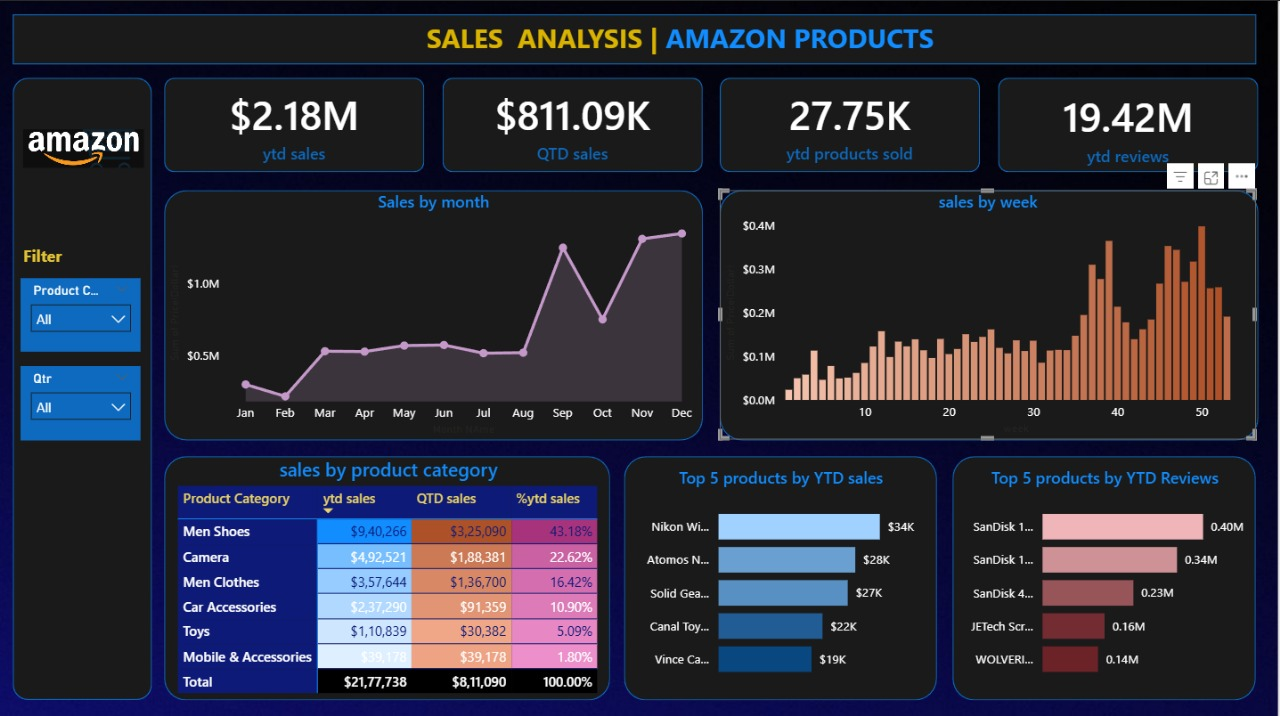

The dashboard page shown, as its layout file describes it:
{"tool":"powerbi","page":{"name":"Page 1","canvas":[1280,720],"ordinal":0},"visuals":[{"type":"shape","box":[14.5,13.4,1243.4,50.1],"z":0},{"type":"textbox","box":[83.4,13.5,1196.3,50.3],"z":1000},{"type":"shape","box":[14.5,76.8,139.1,622.3],"z":2000},{"type":"shape","box":[165.6,77.3,260.1,94.5],"z":3000},{"type":"card","fields":{"Values":["Amazon_Data.ytd sales"]},"box":[165.6,77.3,260.1,94.5],"z":4000},{"type":"shape","box":[443.8,77.3,260.1,94.5],"z":5000},{"type":"card","fields":{"Values":["Amazon_Data.QTD sales"]},"box":[444.2,77.3,260.1,94.5],"z":6000},{"type":"shape","box":[721.9,77.3,260.1,94.5],"z":7000},{"type":"shape","box":[1000,77.3,260.1,94.5],"z":8000},{"type":"card","fields":{"Values":["Amazon_Data.ytd reviews"]},"box":[1000,78.5,260.1,94.5],"z":9000},{"type":"card","fields":{"Values":["Amazon_Data.ytd products sold"]},"box":[721.5,77.3,260.1,94.5],"z":10000},{"type":"shape","box":[165.6,189,538.7,250.3],"z":11000},{"type":"areaChart","title":"Sales  by month","fields":{"Category":["Date table.Month NAme"],"Y":["Sum(Amazon_Data.Price(Dollar))"]},"box":[165.6,189,538.7,250.3],"z":12000},{"type":"shape","box":[721.5,189,538.7,250.3],"z":13000},{"type":"columnChart","title":"sales by week","fields":{"Category":["Date table.week"],"Y":["Sum(Amazon_Data.Price(Dollar))"]},"box":[721.8,189.4,536.5,249.7],"z":14000},{"type":"shape","box":[166,455.6,446,244.3],"z":15000},{"type":"pivotTable","title":"sales by product category","fields":{"Rows":["Amazon_Data.Product Category"],"Values":["Amazon_Data.ytd sales1","Amazon_Data.QTD sales","Amazon_Data.ytd sales"]},"box":[174.8,455.3,430.8,243.8],"z":16000},{"type":"shape","box":[625.7,455.6,312.9,244.3],"z":17000},{"type":"clusteredBarChart","title":"Top 5 products by YTD sales","fields":{"Category":["Amazon_Data.Product Description"],"Y":["Amazon_Data.ytd sales"]},"box":[632.6,465.2,300.5,225],"z":18000},{"type":"shape","box":[953.7,455.6,303.3,244.3],"z":19000},{"type":"clusteredBarChart","title":"Top 5 products by YTD Reviews","fields":{"Category":["Amazon_Data.Product Description"],"Y":["Amazon_Data.ytd reviews"]},"box":[956.4,465.2,300.5,225],"z":20000},{"type":"slicer","fields":{"Values":["Amazon_Data.Product Category"]},"box":[22.3,277.2,120.2,73.5],"z":21000},{"type":"slicer","fields":{"Values":["Date table.Qtr"]},"box":[22.3,365.1,120.2,74.6],"z":22000},{"type":"textbox","box":[20,238.2,92.4,39],"z":23000},{"type":"image","box":[20,123.6,130.2,47.9],"z":24000}]}

Visuals, with their boxes in screenshot pixels (x1, y1, x2, y2), scaled from the page's 1280x720 canvas onto the 1280x716 screenshot:
shape: bbox=(14, 13, 1258, 63)
textbox: bbox=(83, 13, 1279, 63)
shape: bbox=(14, 76, 154, 695)
shape: bbox=(166, 77, 426, 171)
card - Amazon_Data.ytd sales: bbox=(166, 77, 426, 171)
shape: bbox=(444, 77, 704, 171)
card - Amazon_Data.QTD sales: bbox=(444, 77, 704, 171)
shape: bbox=(722, 77, 982, 171)
shape: bbox=(1000, 77, 1260, 171)
card - Amazon_Data.ytd reviews: bbox=(1000, 78, 1260, 172)
card - Amazon_Data.ytd products sold: bbox=(722, 77, 982, 171)
shape: bbox=(166, 188, 704, 437)
"Sales  by month" areaChart: bbox=(166, 188, 704, 437)
shape: bbox=(722, 188, 1260, 437)
"sales by week" columnChart: bbox=(722, 188, 1258, 437)
shape: bbox=(166, 453, 612, 696)
"sales by product category" pivotTable: bbox=(175, 453, 606, 695)
shape: bbox=(626, 453, 939, 696)
"Top 5 products by YTD sales" clusteredBarChart: bbox=(633, 463, 933, 686)
shape: bbox=(954, 453, 1257, 696)
"Top 5 products by YTD Reviews" clusteredBarChart: bbox=(956, 463, 1257, 686)
slicer - Amazon_Data.Product Category: bbox=(22, 276, 142, 349)
slicer - Date table.Qtr: bbox=(22, 363, 142, 437)
textbox: bbox=(20, 237, 112, 276)
image: bbox=(20, 123, 150, 171)
